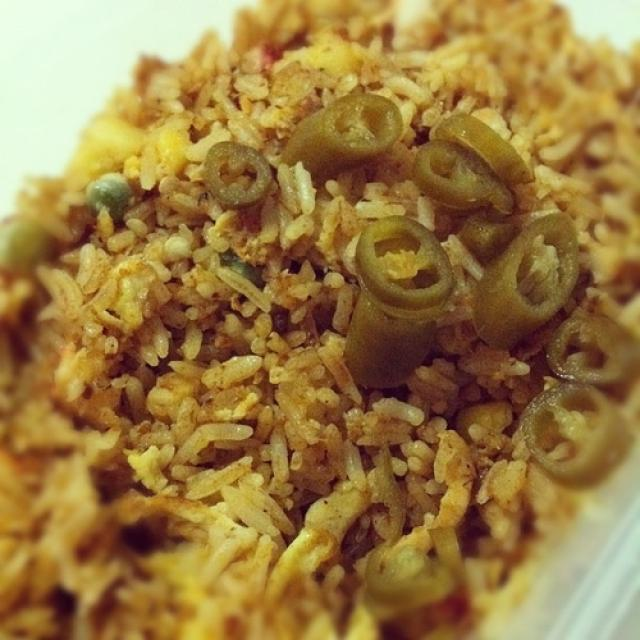米饭主食: (37, 40, 585, 604)
